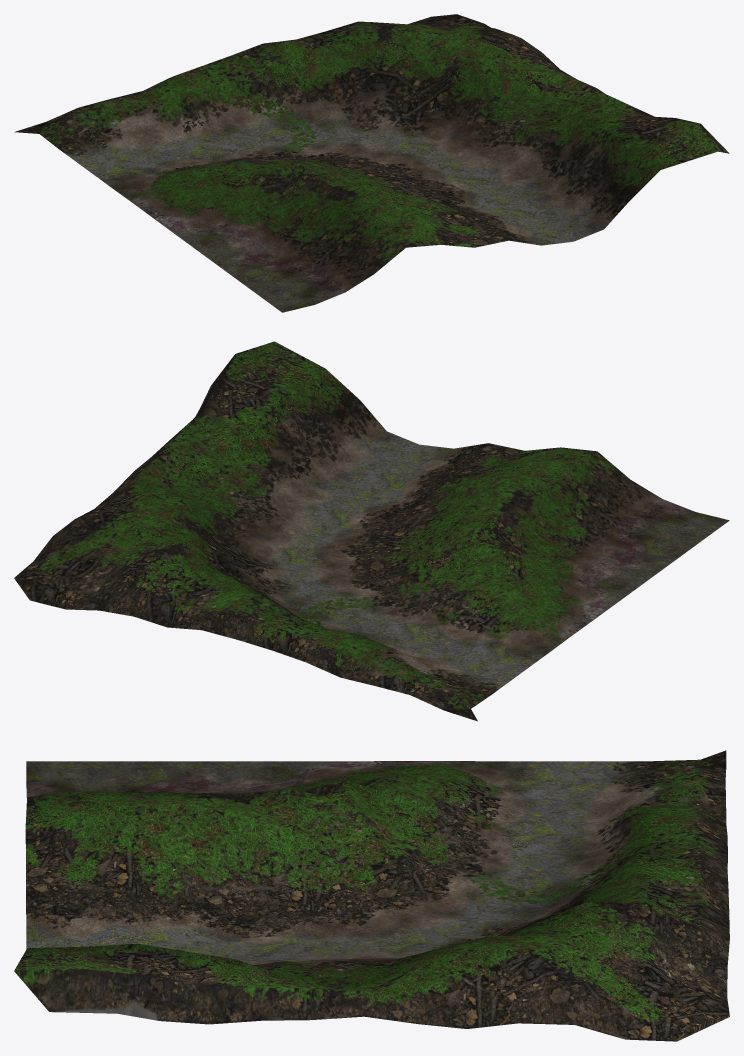
The model's file is terrain2.glb.
3 renders of one model, top to bottom at view 1: azimuth 30°, elevation 25°; view 2: azimuth 150°, elevation 25°; view 3: azimuth 270°, elevation 25°, orthographic. The views are drawn at different scales.
Visible parts, largest first — view 1: Terrain.002; view 2: Terrain.002; view 3: Terrain.002.
Part boxes in pixels (x1=…): Terrain.002: x1=14, y1=14, x2=729, y2=312; Terrain.002: x1=14, y1=341, x2=729, y2=721; Terrain.002: x1=14, y1=750, x2=729, y2=1041.
Bounding box in the file's own units: 45.92 × 6.04 × 43.46.
Materials: 1 (1 with a texture image).
